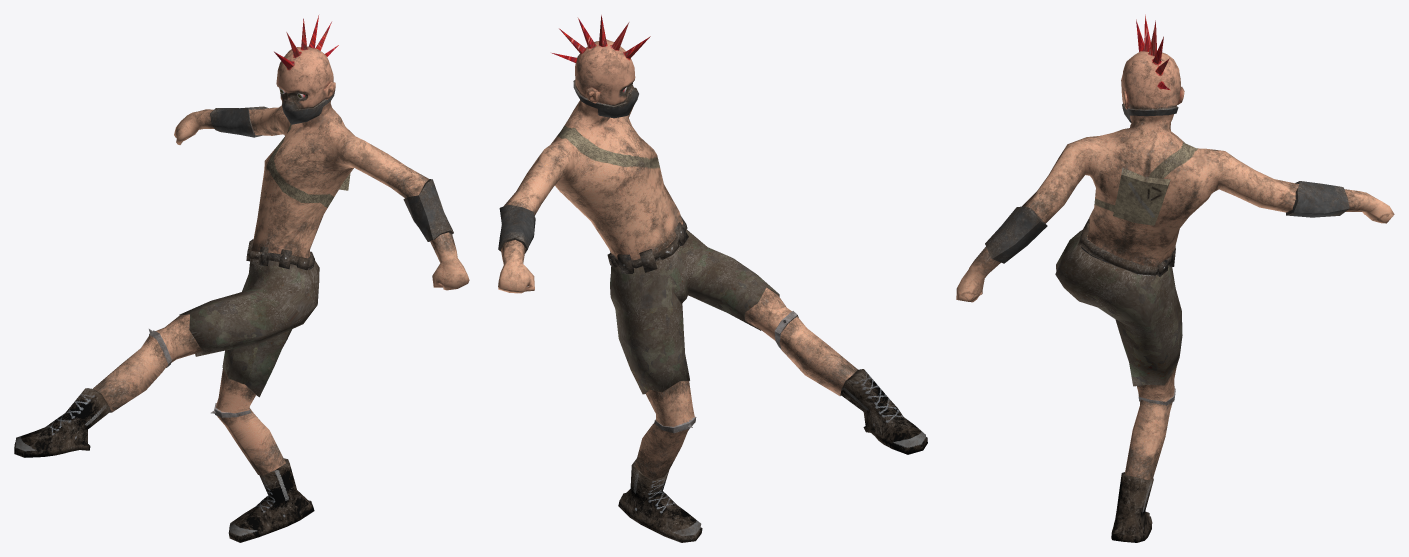
Rendered from Anim_ataque_f3_npc2.0033.obj.
The picture shows the model from 3 angles, left to right: view 1: azimuth 30°, elevation 25°; view 2: azimuth 150°, elevation 25°; view 3: azimuth 270°, elevation 25°; orthographic projection. The views are drawn at different scales.
Parts seen in each view (by area): view 1: polySurface1; view 2: polySurface1; view 3: polySurface1.
Part boxes in pixels (x1,y1,x2,y2): polySurface1: (14, 15, 469, 542); polySurface1: (498, 15, 927, 542); polySurface1: (956, 14, 1394, 542).
Size of the model in its own units: 7.82 by 9.79 by 7.14.
2 materials, 2 textured.
